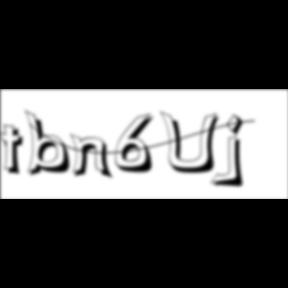6: (116, 112, 161, 176)
U: (160, 110, 225, 176)
b: (24, 109, 78, 179)
j: (224, 113, 250, 191)
n: (70, 132, 118, 181)
t: (0, 124, 32, 179)
